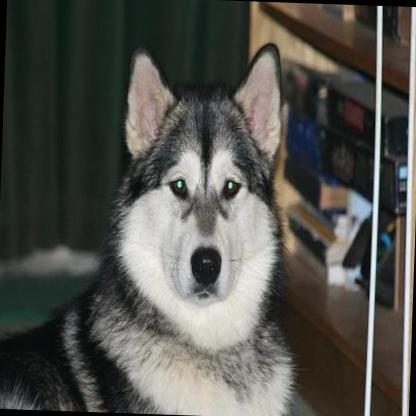malamute: (0, 32, 315, 416)
